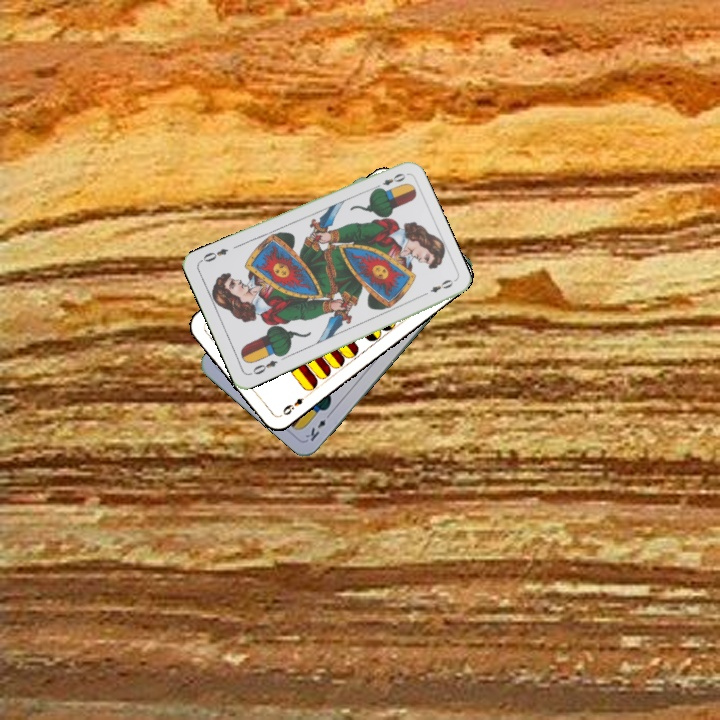E9: (278, 391, 311, 418)
EK: (301, 408, 334, 444)
EO: (370, 169, 408, 193), (246, 356, 280, 378)
